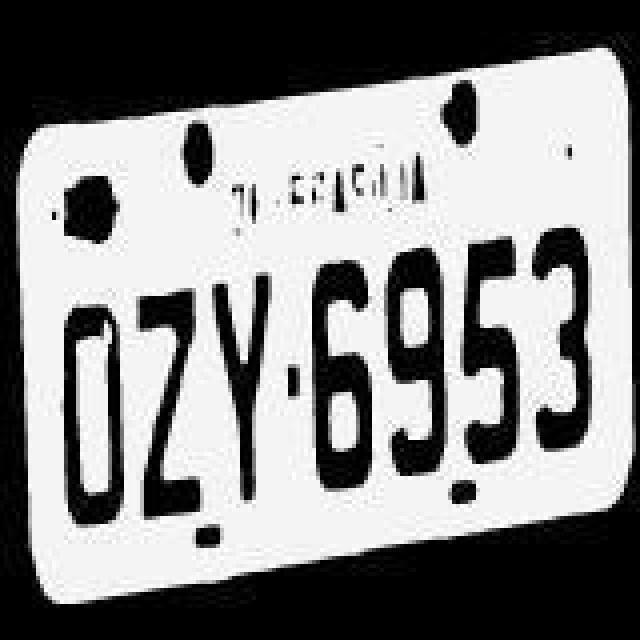3: (530, 222, 606, 458)
5: (454, 226, 530, 470)
6: (298, 246, 374, 490)
9: (382, 226, 450, 470)
O: (56, 292, 136, 540)
Y: (206, 266, 274, 518)
Z: (130, 280, 206, 544)
